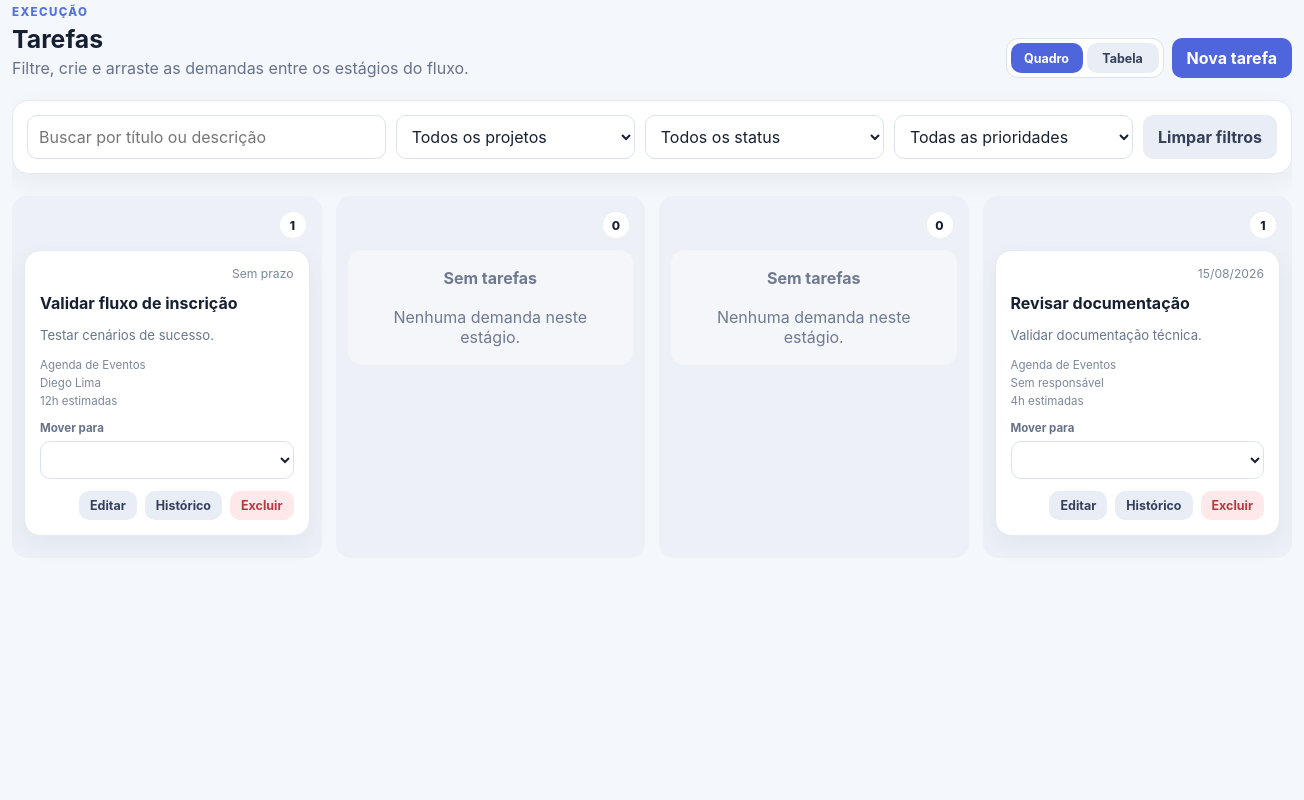
Test case: TasksPage › shows an error when changing status fails
This screenshot has width=1304, height=800.
Select "Review" in the dropdown labelled "Mover para" below "12" at (167, 460), box [40,441,294,479]
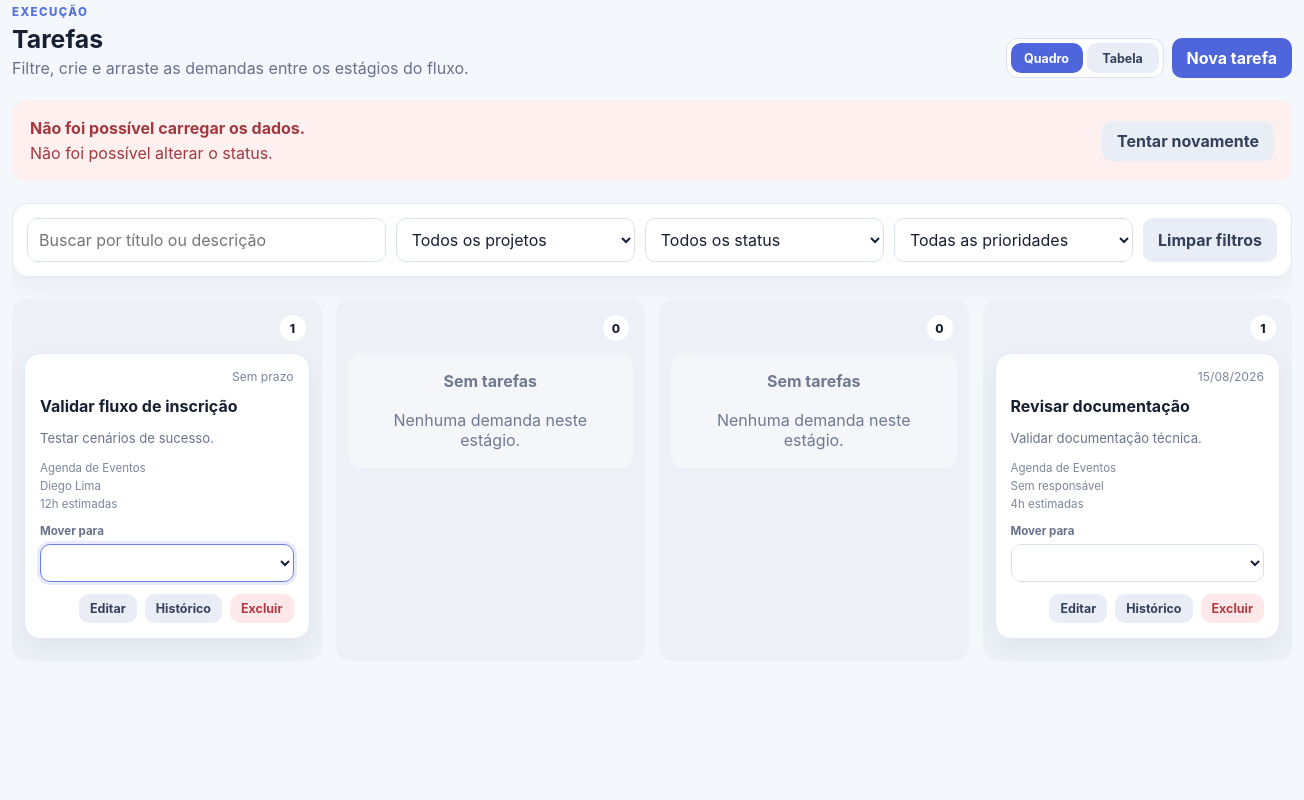
Expected: the text "Não foi possível alterar o status." is shown, [30,143,305,163]
